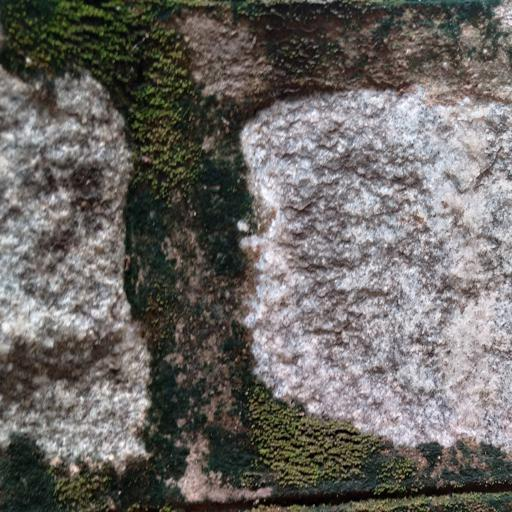algae: (0, 3, 473, 512)
